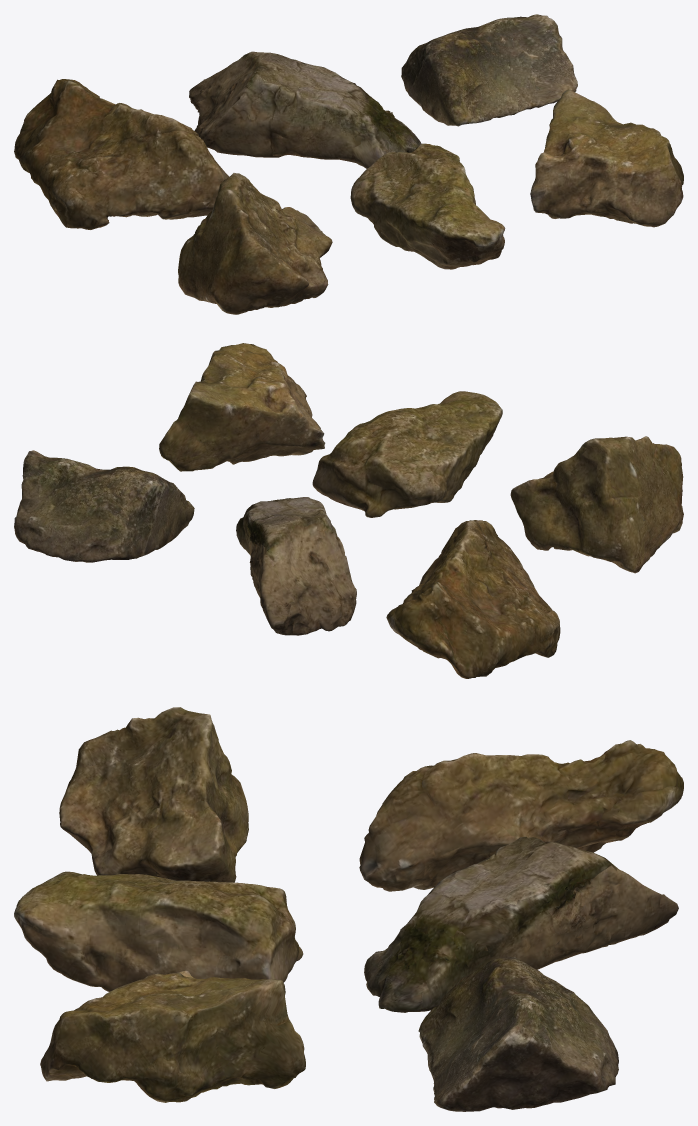
Rendered from rock_moss_set_01_game.glb.
The picture shows the model from 3 angles, top to bottom: view 1: azimuth 30°, elevation 25°; view 2: azimuth 150°, elevation 25°; view 3: azimuth 270°, elevation 25°; orthographic projection. The views are drawn at different scales.
Visible parts, largest first — view 1: rock_moss_set_01_rock01, rock_moss_set_01_rock02, rock_moss_set_01_rock06, rock_moss_set_01_rock04, rock_moss_set_01_rock03, rock_moss_set_01_rock05; view 2: rock_moss_set_01_rock04, rock_moss_set_01_rock01, rock_moss_set_01_rock05, rock_moss_set_01_rock03, rock_moss_set_01_rock06, rock_moss_set_01_rock02; view 3: rock_moss_set_01_rock01, rock_moss_set_01_rock02, rock_moss_set_01_rock05, rock_moss_set_01_rock06, rock_moss_set_01_rock04, rock_moss_set_01_rock03.
Boxes of the visible parts, x1=… form: rock_moss_set_01_rock01: x1=14, y1=79, x2=229, y2=229; rock_moss_set_01_rock02: x1=189, y1=51, x2=421, y2=168; rock_moss_set_01_rock06: x1=530, y1=89, x2=683, y2=227; rock_moss_set_01_rock04: x1=178, y1=173, x2=332, y2=314; rock_moss_set_01_rock03: x1=401, y1=14, x2=577, y2=126; rock_moss_set_01_rock05: x1=350, y1=143, x2=505, y2=269; rock_moss_set_01_rock04: x1=510, y1=436, x2=683, y2=573; rock_moss_set_01_rock01: x1=386, y1=520, x2=560, y2=678; rock_moss_set_01_rock05: x1=312, y1=391, x2=502, y2=517; rock_moss_set_01_rock03: x1=14, y1=450, x2=194, y2=562; rock_moss_set_01_rock06: x1=159, y1=343, x2=325, y2=471; rock_moss_set_01_rock02: x1=236, y1=497, x2=356, y2=635; rock_moss_set_01_rock01: x1=359, y1=740, x2=683, y2=891; rock_moss_set_01_rock02: x1=364, y1=836, x2=678, y2=1012; rock_moss_set_01_rock05: x1=14, y1=871, x2=303, y2=991; rock_moss_set_01_rock06: x1=40, y1=970, x2=305, y2=1102; rock_moss_set_01_rock04: x1=59, y1=707, x2=248, y2=882; rock_moss_set_01_rock03: x1=418, y1=956, x2=618, y2=1111.
Size of the model in its own units: 8 by 1.77 by 6.94.
1 material, 1 textured.
